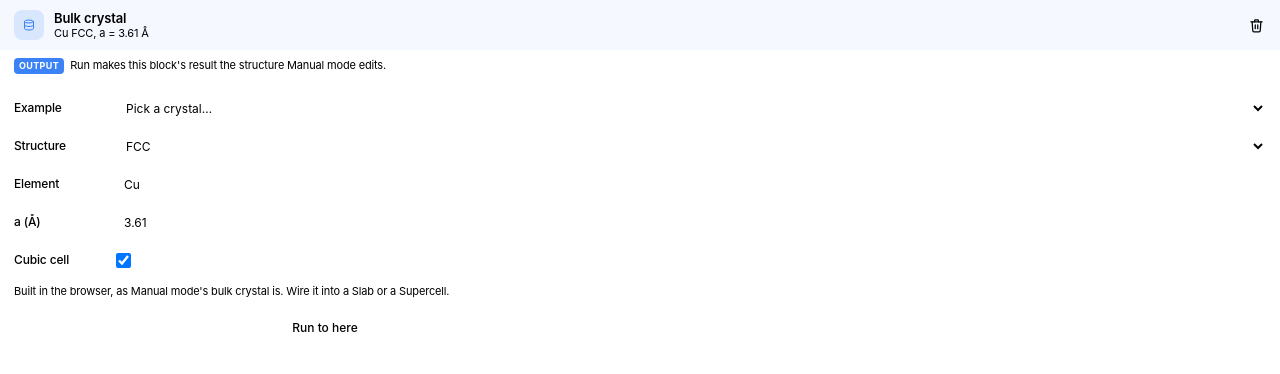
it: number boxes › checks a crystal's species
This screenshot has width=1280, height=374.
Replace the text in the field with test id "builder-flow-crystal-element-0" with "Qq": (220, 184) [116, 170, 324, 198]
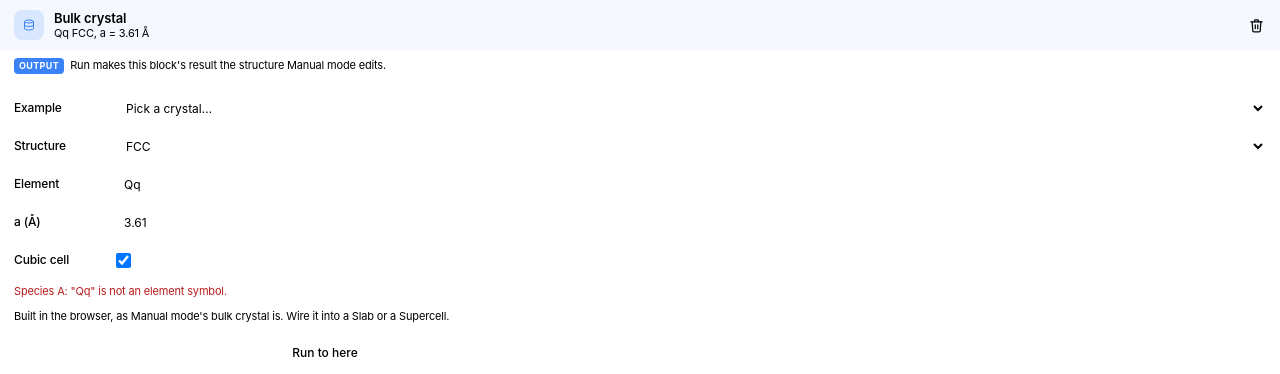
expect the message with test id "builder-flow-builtin-problem" shows "not an element symbol": met, box [14, 284, 227, 298]
